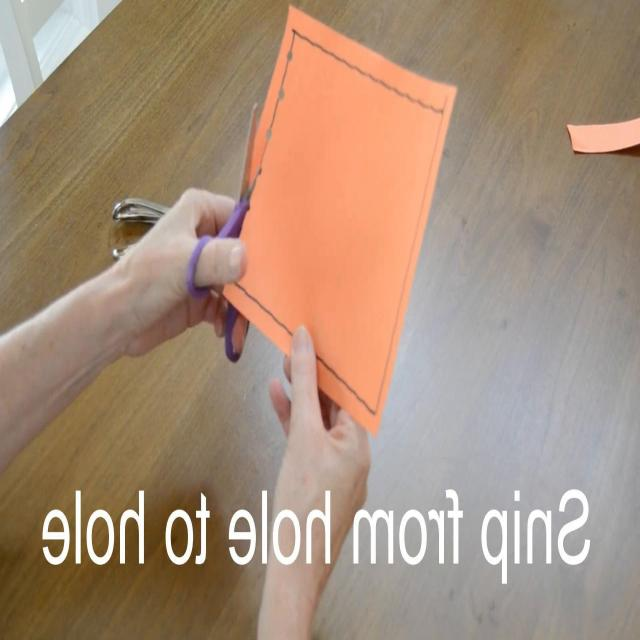scissor: (187, 104, 257, 363)
